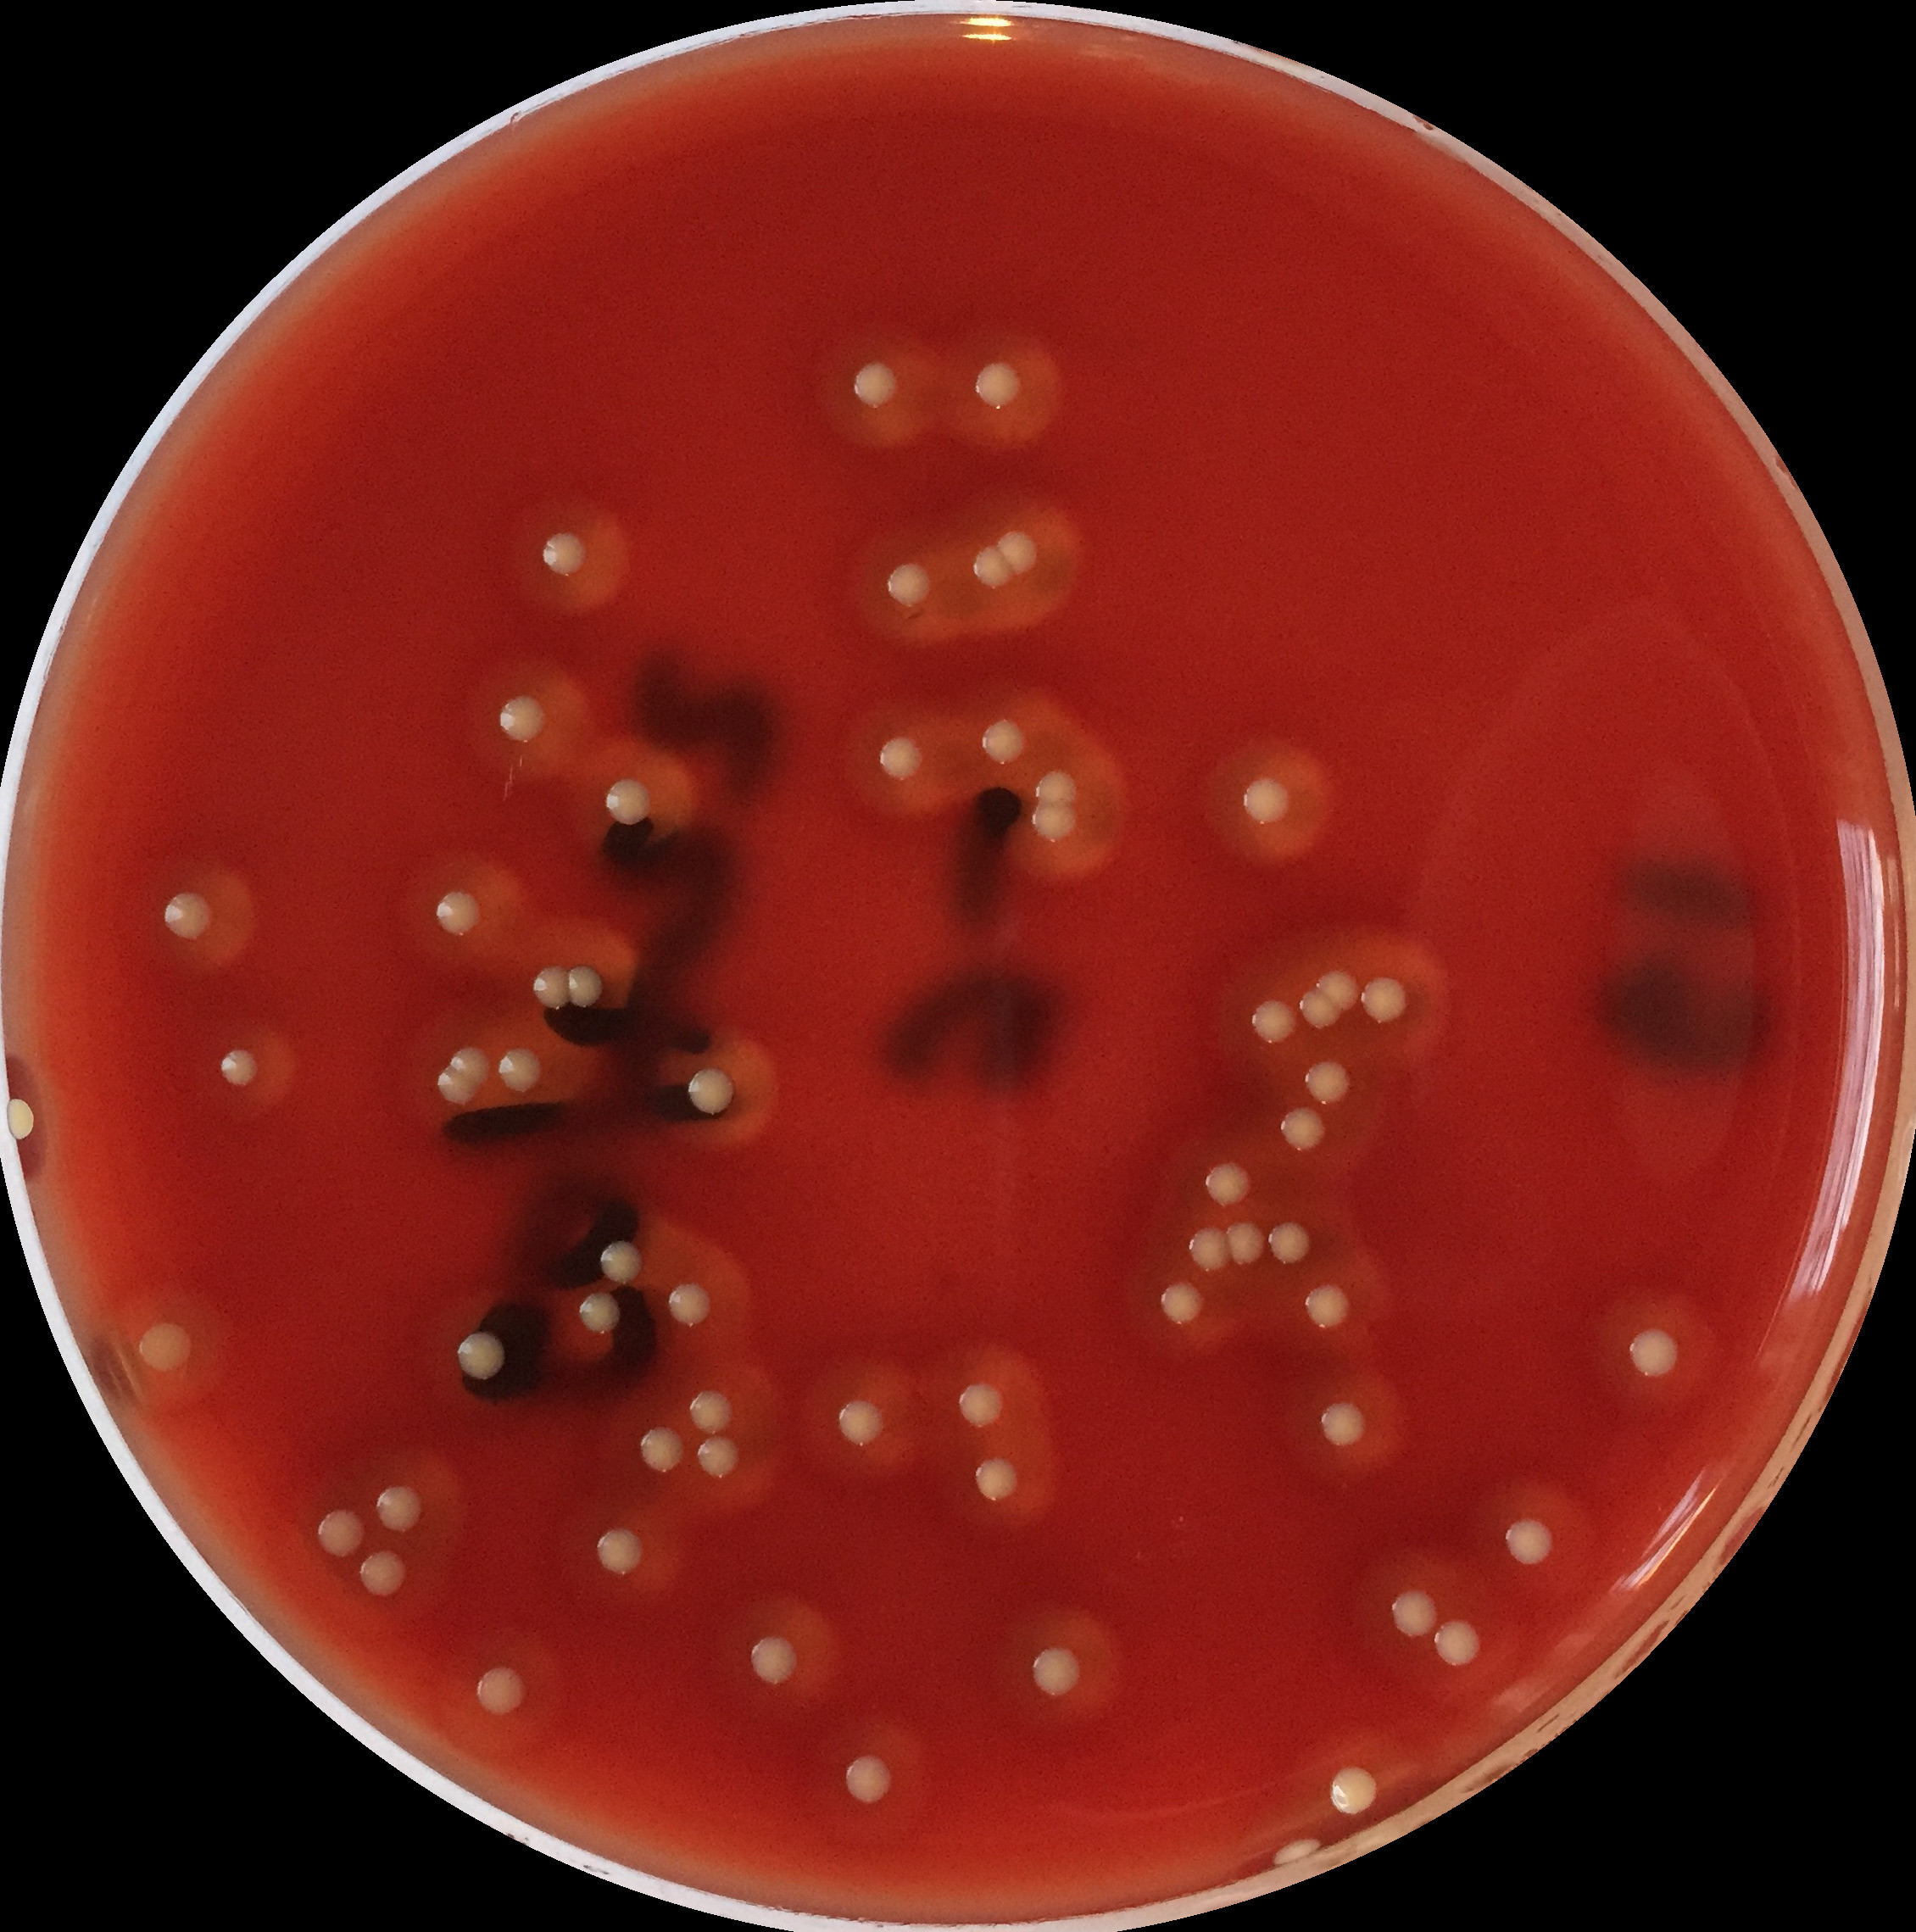sp21: (351, 1546, 418, 1607), (130, 1321, 197, 1381), (449, 1327, 518, 1383), (1426, 1616, 1490, 1674), (156, 890, 223, 944), (470, 1662, 532, 1720), (840, 1750, 898, 1809), (432, 884, 490, 942), (590, 1525, 649, 1581), (368, 1485, 430, 1539), (1026, 1644, 1084, 1700), (495, 693, 554, 748), (1498, 1514, 1555, 1571), (1237, 774, 1295, 828), (556, 958, 616, 1011), (309, 1506, 368, 1558), (1623, 1323, 1679, 1377), (600, 777, 658, 830), (1297, 1281, 1355, 1334), (746, 1632, 804, 1685), (683, 1069, 742, 1120), (1274, 1102, 1330, 1155), (1388, 1586, 1441, 1642), (633, 1421, 690, 1474), (593, 1239, 653, 1288), (1300, 1058, 1355, 1111), (1326, 1764, 1381, 1816), (977, 714, 1030, 767), (1314, 1399, 1367, 1451), (495, 1046, 547, 1098), (1155, 1277, 1205, 1332), (954, 1379, 1007, 1430), (974, 361, 1028, 411), (1197, 1156, 1251, 1206), (1181, 1225, 1235, 1274), (874, 732, 930, 779), (883, 562, 933, 612), (576, 1292, 626, 1342), (1270, 1832, 1328, 1876), (995, 526, 1046, 576), (430, 1063, 481, 1113), (526, 967, 579, 1014), (970, 1455, 1023, 1502), (667, 1277, 714, 1330), (537, 532, 591, 577), (832, 1399, 886, 1444), (1263, 1223, 1316, 1269), (214, 1048, 267, 1093), (969, 544, 1018, 591), (1246, 995, 1293, 1044), (1362, 976, 1409, 1025), (684, 1390, 735, 1435), (1030, 767, 1084, 809), (849, 360, 897, 407), (1032, 800, 1081, 846), (1223, 1220, 1267, 1269), (695, 1434, 746, 1476), (1297, 984, 1342, 1030), (446, 1044, 493, 1086), (1314, 970, 1362, 1009)
